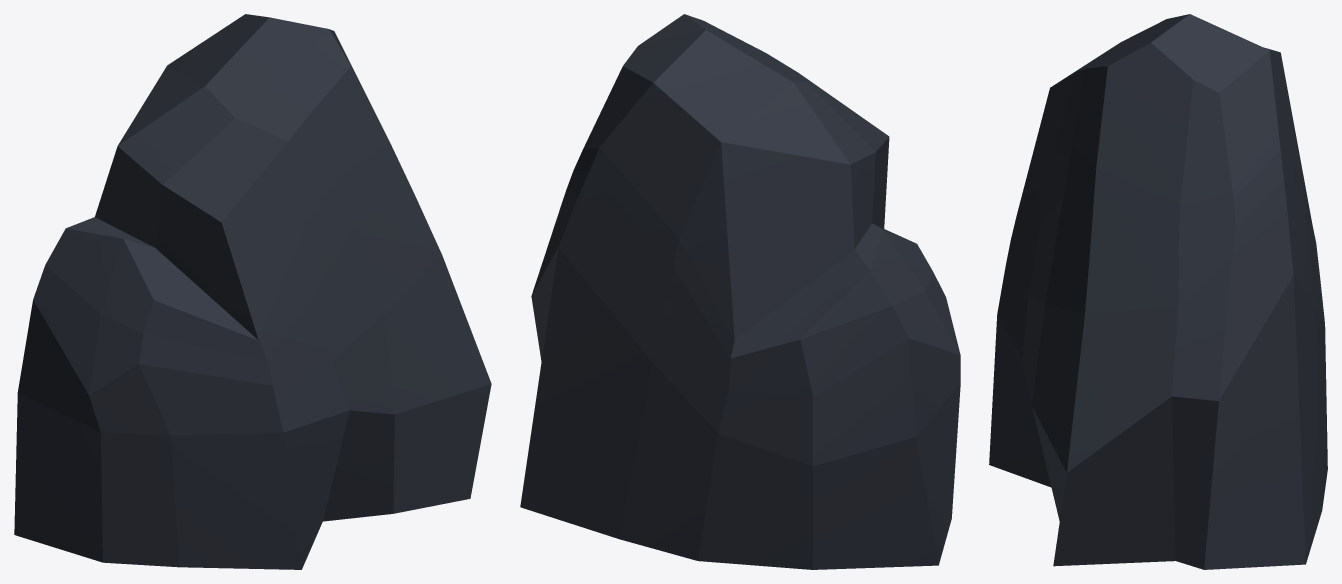
The model's file is SM_Rock5.fbx.
3 views of the same model, side by side, from view 1: azimuth 30°, elevation 25°; view 2: azimuth 150°, elevation 25°; view 3: azimuth 270°, elevation 25° (orthographic). The views are drawn at different scales.
Visible parts, largest first — view 1: SM_Rock5_Body; view 2: SM_Rock5_Body; view 3: SM_Rock5_Body.
Part boxes in pixels (box(x1,y1,x2,y2)): SM_Rock5_Body: box(14, 14, 491, 569); SM_Rock5_Body: box(520, 14, 960, 569); SM_Rock5_Body: box(989, 14, 1327, 569).
Bounding box in the file's own units: 100 × 110 × 69.63.
